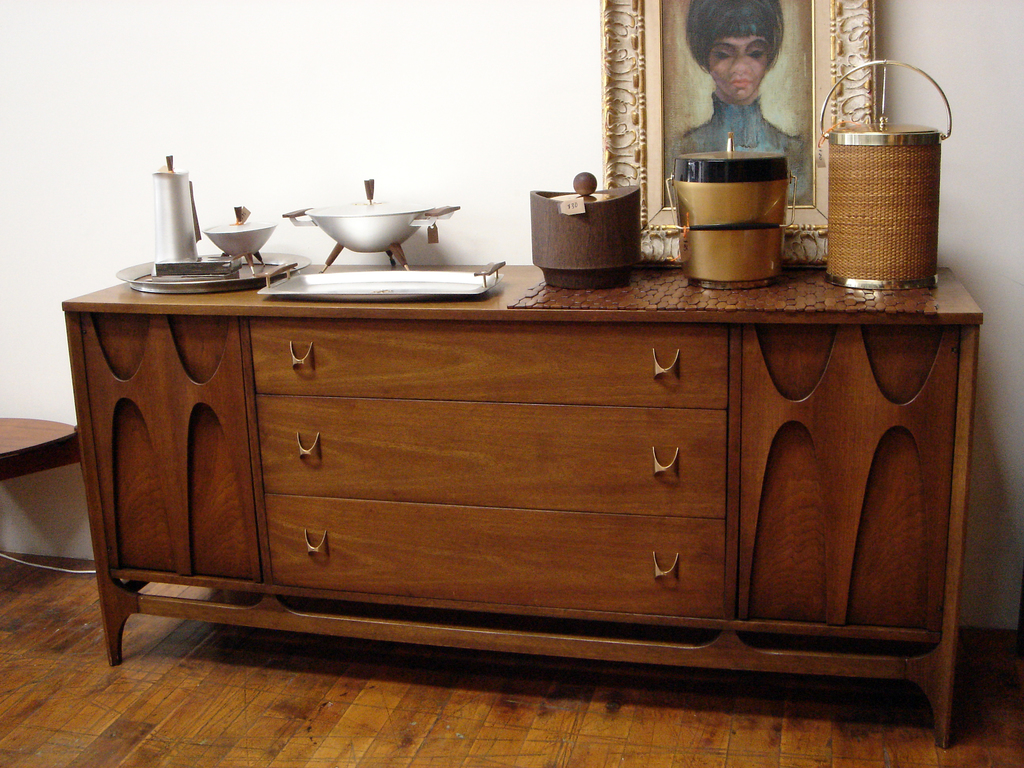cabinet door: (280, 397, 712, 510), (294, 499, 718, 606), (263, 324, 718, 404)
handle: (646, 343, 686, 383), (649, 541, 683, 588), (294, 426, 329, 466), (644, 447, 679, 482), (285, 335, 315, 372), (302, 523, 331, 557)
